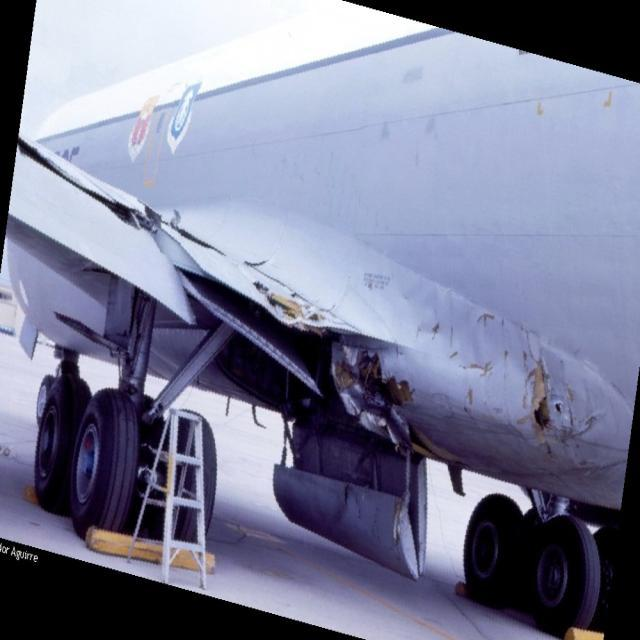crack: (527, 356, 561, 462)
dent: (406, 282, 524, 413)
